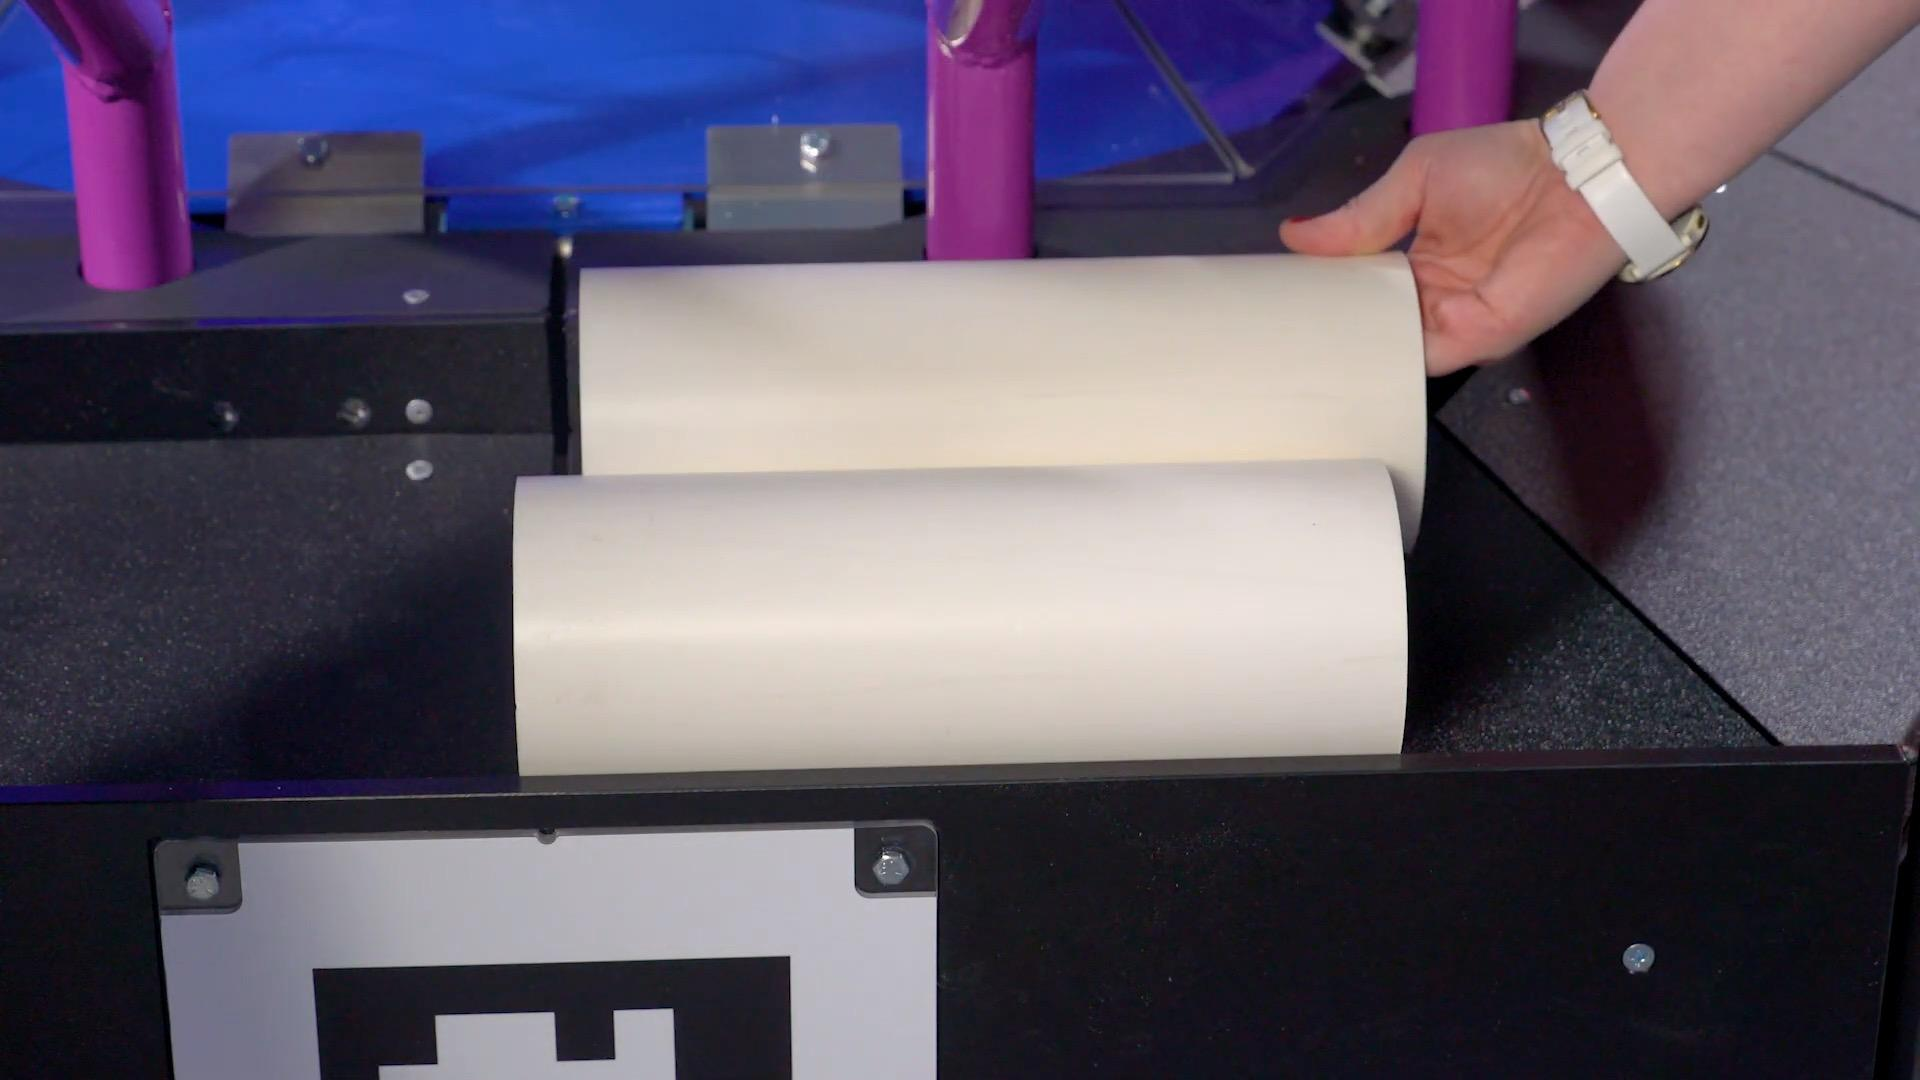CORAL: (509, 458, 1411, 777), (570, 248, 1429, 550)
